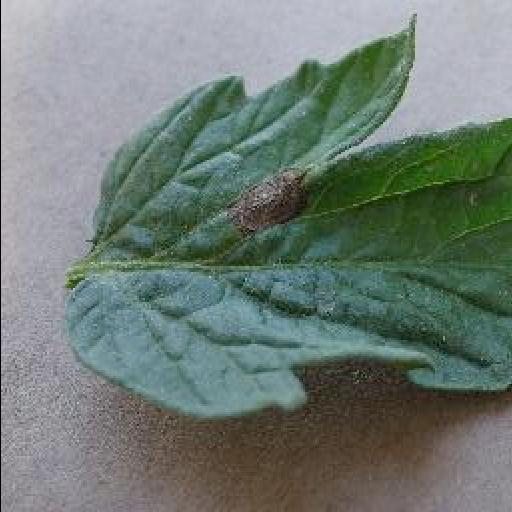Early Blight: (72, 14, 512, 424)
